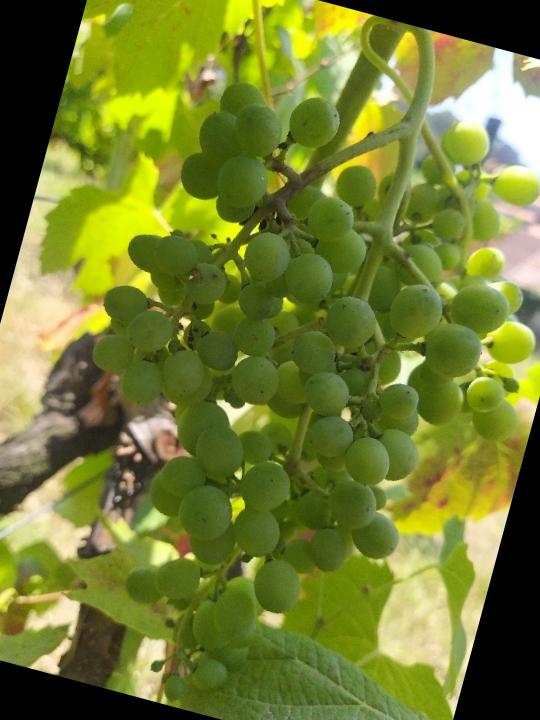grape: (6, 40, 540, 720)
